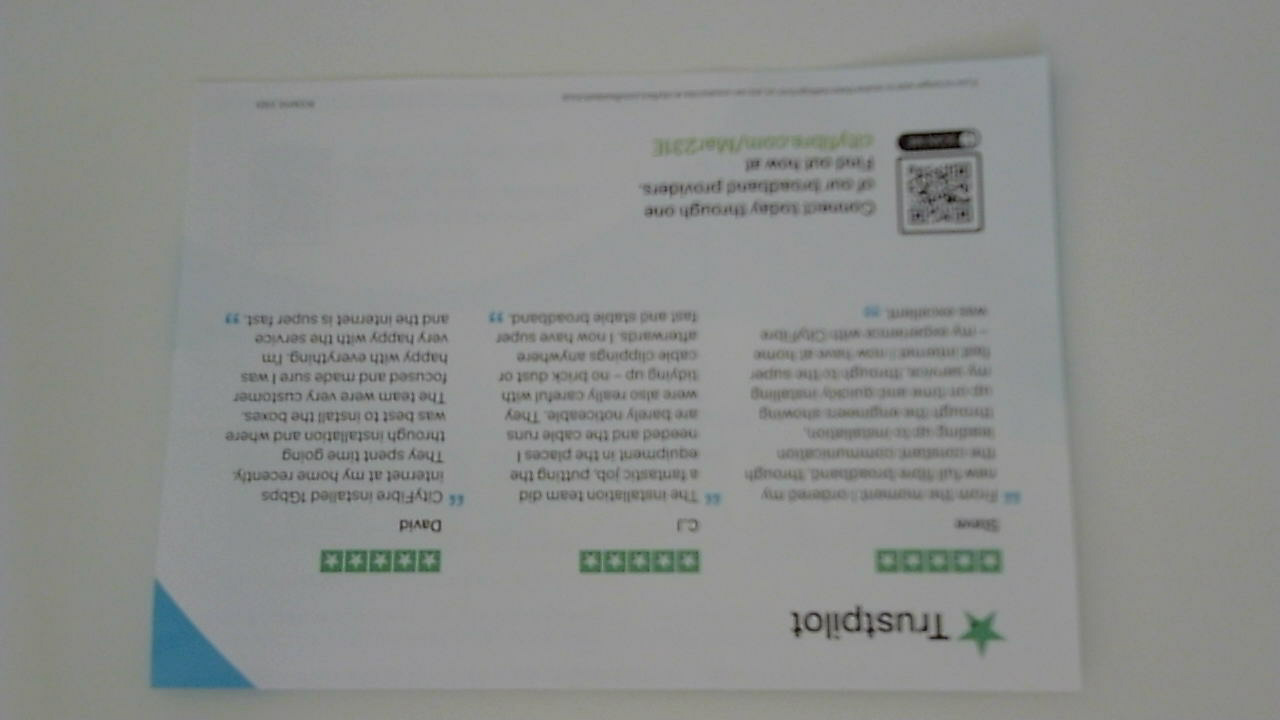Mixed Paper: (161, 58, 1088, 707)
